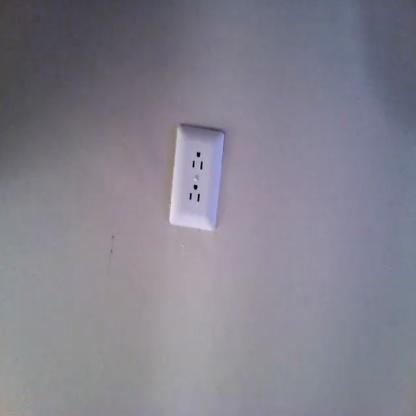OUTLET: (169, 128, 227, 229)
